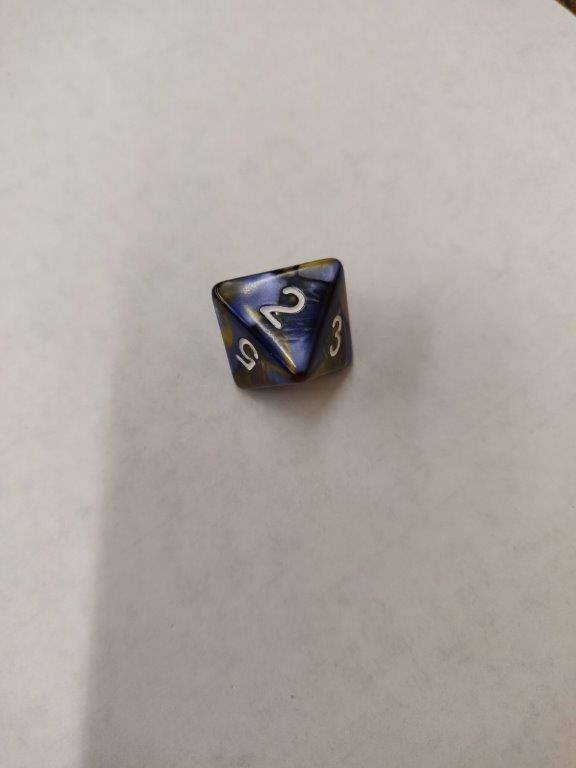d8-2: (210, 256, 357, 396)
